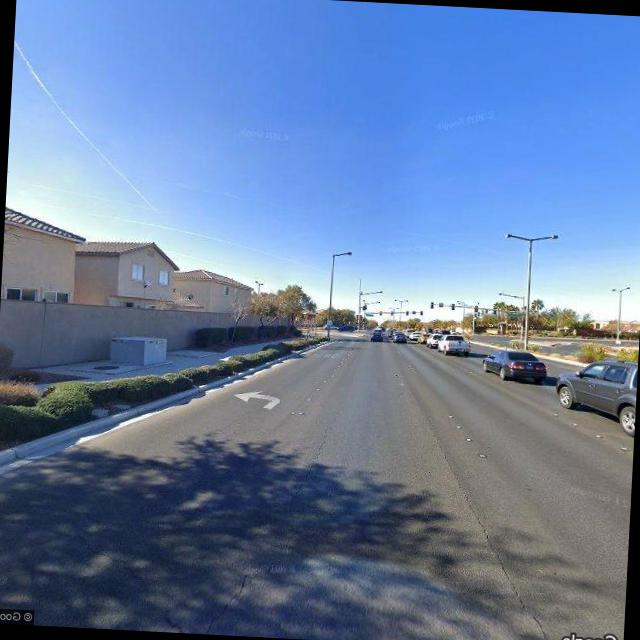crack: (206, 508, 304, 638), (48, 510, 153, 586), (292, 403, 344, 500)
